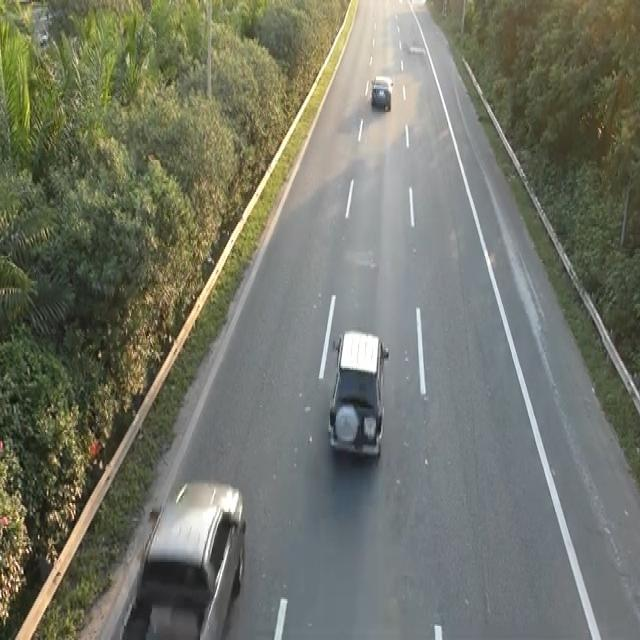car: (100, 474, 248, 636), (326, 326, 390, 460)
